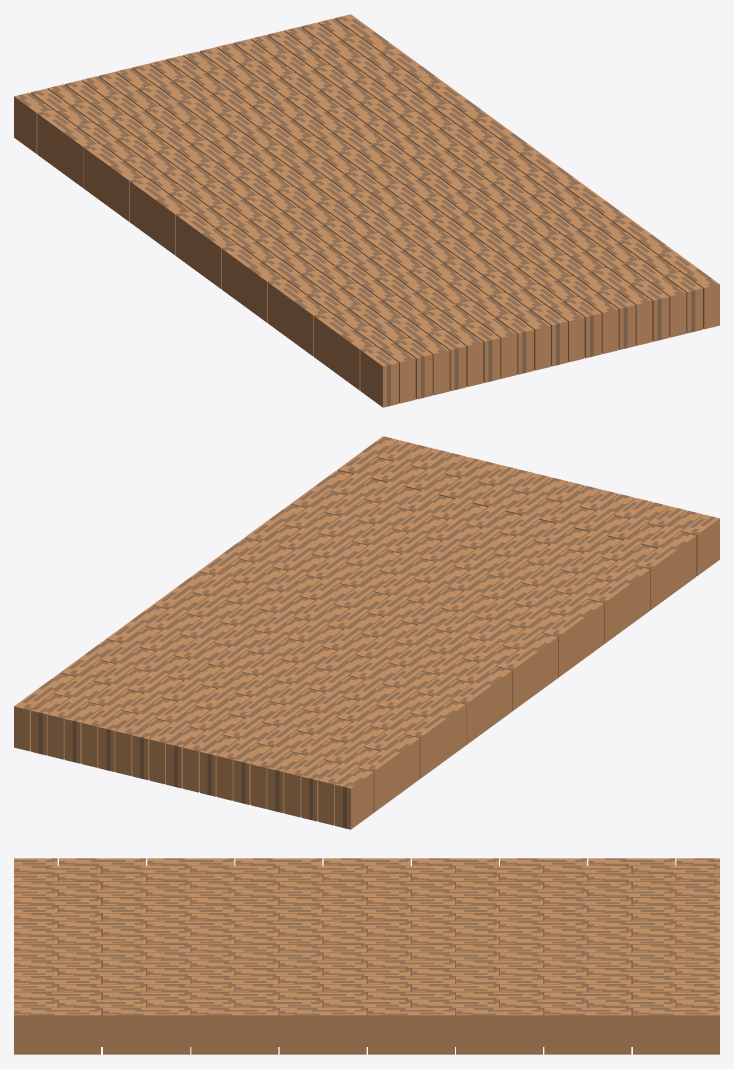
Rendered from legno pavimento chiaro fbx.fbx.
The picture shows the model from 3 angles, top to bottom: view 1: azimuth 30°, elevation 25°; view 2: azimuth 150°, elevation 25°; view 3: azimuth 270°, elevation 25°; orthographic projection. The views are drawn at different scales.
Visible parts, largest first — view 1: asse1; view 2: asse1; view 3: asse1.
Boxes of the visible parts, box(x1,y1,x2,y2) form: asse1: box(14, 14, 719, 407); asse1: box(14, 436, 719, 829); asse1: box(14, 858, 719, 1054).
Bounding box in the file's own units: 855 × 100 × 1623.
